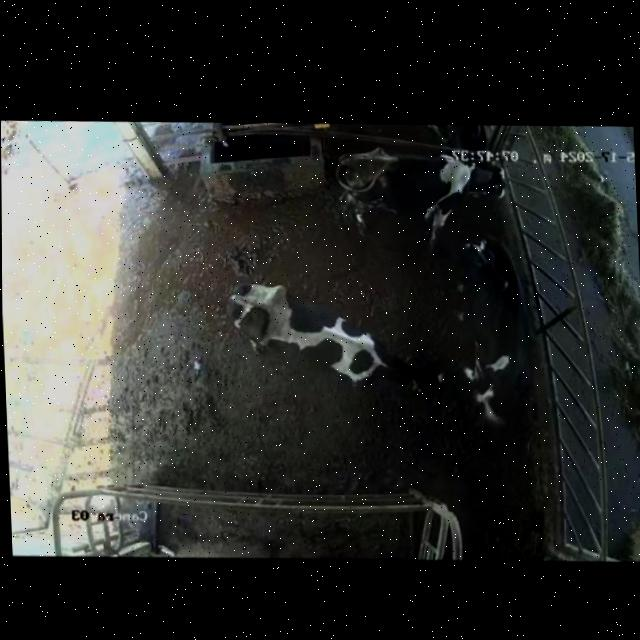stand: (214, 263, 449, 413), (321, 139, 520, 245), (445, 230, 540, 441)
